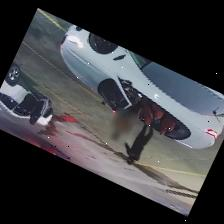person: (110, 101, 141, 140), (124, 124, 152, 163)
